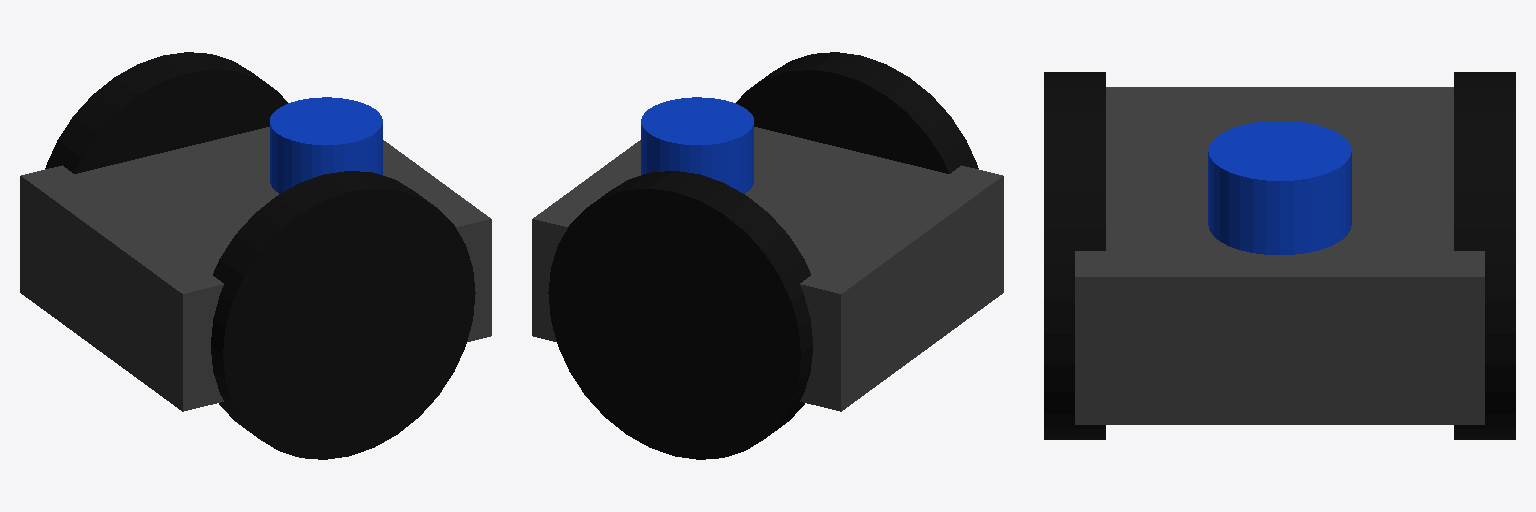
URDF robot description (slam_bot):
<?xml version="1.0"?>
<!--
  robot_description.urdf — Minimal URDF for differential drive SLAM bot
  Defines the TF tree: odom → base_link → laser, base_link → imu_link

  IMPORTANT: Adjust the xyz offsets in the laser and imu joints to match
  your physical robot. Measurements are in meters from chassis center.
-->
<robot name="slam_bot" xmlns:xacro="http://www.ros.org/wiki/xacro">

  <!-- ═══════════════ BASE LINK ═══════════════ -->
  <link name="base_link">
    <visual>
      <geometry>
        <box size="0.22 0.20 0.08"/>  <!-- L x W x H of chassis -->
      </geometry>
      <material name="chassis_grey">
        <color rgba="0.3 0.3 0.3 1.0"/>
      </material>
    </visual>
    <collision>
      <geometry>
        <box size="0.22 0.20 0.08"/>
      </geometry>
    </collision>
    <inertial>
      <mass value="1.5"/>
      <inertia ixx="0.005" ixy="0" ixz="0" iyy="0.008" iyz="0" izz="0.01"/>
    </inertial>
  </link>

  <!-- ═══════════════ BASE FOOTPRINT (ground projection) ═══════════════ -->
  <link name="base_footprint"/>
  <joint name="base_footprint_joint" type="fixed">
    <parent link="base_footprint"/>
    <child link="base_link"/>
    <origin xyz="0 0 0.09" rpy="0 0 0"/>  <!-- wheel_radius = 0.09m -->
  </joint>

  <!-- ═══════════════ LEFT WHEEL ═══════════════ -->
  <link name="left_wheel">
    <visual>
      <geometry>
        <cylinder radius="0.09" length="0.03"/>
      </geometry>
      <material name="wheel_black">
        <color rgba="0.1 0.1 0.1 1.0"/>
      </material>
    </visual>
    <collision>
      <geometry>
        <cylinder radius="0.09" length="0.03"/>
      </geometry>
    </collision>
    <inertial>
      <mass value="0.2"/>
      <inertia ixx="0.0004" ixy="0" ixz="0" iyy="0.0004" iyz="0" izz="0.0008"/>
    </inertial>
  </link>
  <joint name="left_wheel_joint" type="continuous">
    <parent link="base_link"/>
    <child link="left_wheel"/>
    <origin xyz="0 0.10 0" rpy="-1.5708 0 0"/>  <!-- wheel_sep/2 = 0.10 -->
    <axis xyz="0 0 1"/>
  </joint>

  <!-- ═══════════════ RIGHT WHEEL ═══════════════ -->
  <link name="right_wheel">
    <visual>
      <geometry>
        <cylinder radius="0.09" length="0.03"/>
      </geometry>
      <material name="wheel_black">
        <color rgba="0.1 0.1 0.1 1.0"/>
      </material>
    </visual>
    <collision>
      <geometry>
        <cylinder radius="0.09" length="0.03"/>
      </geometry>
    </collision>
    <inertial>
      <mass value="0.2"/>
      <inertia ixx="0.0004" ixy="0" ixz="0" iyy="0.0004" iyz="0" izz="0.0008"/>
    </inertial>
  </link>
  <joint name="right_wheel_joint" type="continuous">
    <parent link="base_link"/>
    <child link="right_wheel"/>
    <origin xyz="0 -0.10 0" rpy="-1.5708 0 0"/>
    <axis xyz="0 0 1"/>
  </joint>

  <!-- ═══════════════ LIDAR FRAME ═══════════════ -->
  <!-- Must match frame_id="laser" in custom_lidar_node.cpp -->
  <link name="laser">
    <visual>
      <geometry>
        <cylinder radius="0.035" length="0.04"/>
      </geometry>
      <material name="lidar_blue">
        <color rgba="0.1 0.3 0.8 1.0"/>
      </material>
    </visual>
    <inertial>
      <mass value="0.15"/>
      <inertia ixx="0.0001" ixy="0" ixz="0" iyy="0.0001" iyz="0" izz="0.0001"/>
    </inertial>
  </link>
  <joint name="laser_joint" type="fixed">
    <parent link="base_link"/>
    <child link="laser"/>
    <!-- Adjust x,y,z to your actual LiDAR position relative to chassis center -->
    <origin xyz="0.05 0 0.06" rpy="0 0 0"/>
  </joint>

  <!-- ═══════════════ IMU FRAME ═══════════════ -->
  <link name="imu_link">
    <inertial>
      <mass value="0.01"/>
      <inertia ixx="0.00001" ixy="0" ixz="0" iyy="0.00001" iyz="0" izz="0.00001"/>
    </inertial>
  </link>
  <joint name="imu_joint" type="fixed">
    <parent link="base_link"/>
    <child link="imu_link"/>
    <!-- Adjust to your MPU6050 position, typically near chassis center -->
    <origin xyz="0 0 0.02" rpy="0 0 0"/>
  </joint>

</robot>

--- Facts derived from the render (not from the file) ---
Views: 3 orthographic renders of the robot side by side, from view 1: azimuth 30°, elevation 25°; view 2: azimuth 150°, elevation 25°; view 3: azimuth 270°, elevation 25°.
Model slam_bot with 6 links and 5 joints (2 continuous, 3 fixed), rooted at base_footprint, posed every joint at zero.
Visible links, largest first — view 1: right_wheel, base_link, left_wheel, laser; view 2: left_wheel, base_link, right_wheel, laser; view 3: base_link, laser, left_wheel, right_wheel.
Boxes of the visible links, <box> form: right_wheel: <box>211,171,475,459</box>; base_link: <box>20,127,491,411</box>; left_wheel: <box>45,52,287,173</box>; laser: <box>270,97,382,193</box>; left_wheel: <box>548,171,812,459</box>; base_link: <box>532,127,1003,411</box>; right_wheel: <box>736,52,978,173</box>; laser: <box>641,97,753,193</box>; base_link: <box>1075,87,1484,424</box>; laser: <box>1208,121,1351,254</box>; left_wheel: <box>1454,72,1515,439</box>; right_wheel: <box>1044,72,1105,439</box>.
Size in the robot's own frame: 0.22 by 0.23 by 0.18 metres.
Geometry: primitives only (box / cylinder / sphere), no mesh files.
